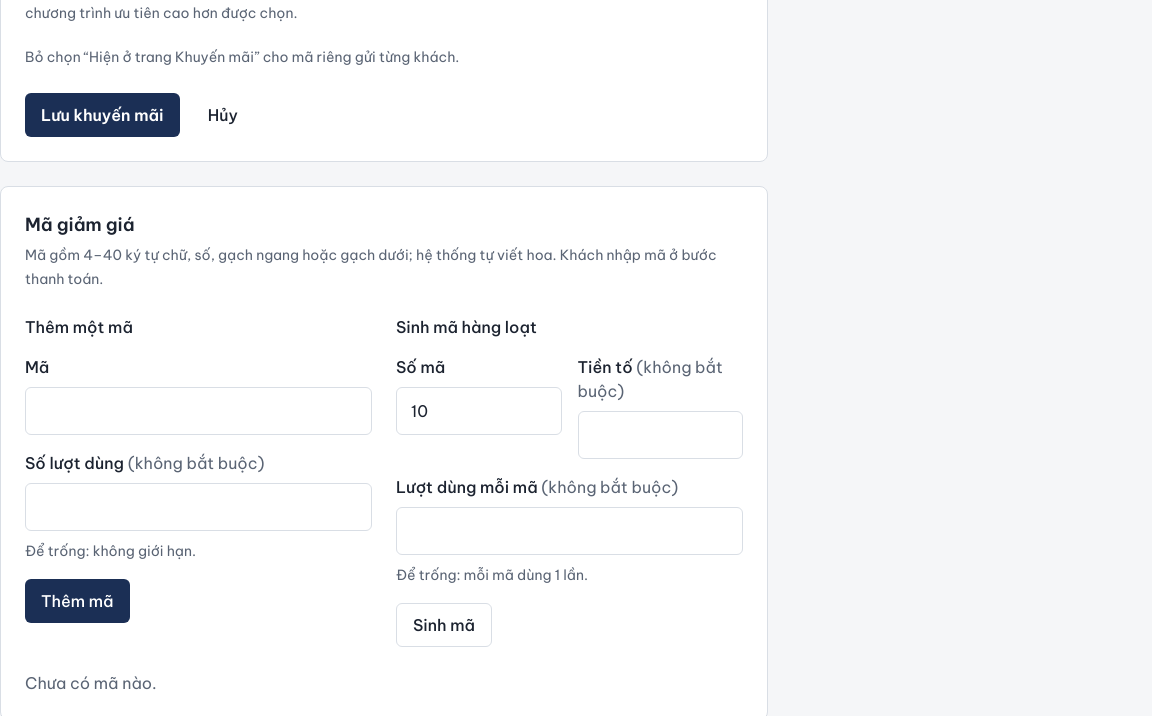
Test: PromotionEdit › báo mã trùng của backend ngay trong form thêm mã
(page scrolled)
In the field labelled "Mã": (198, 411) [25,387,372,435], type "TRUNG"
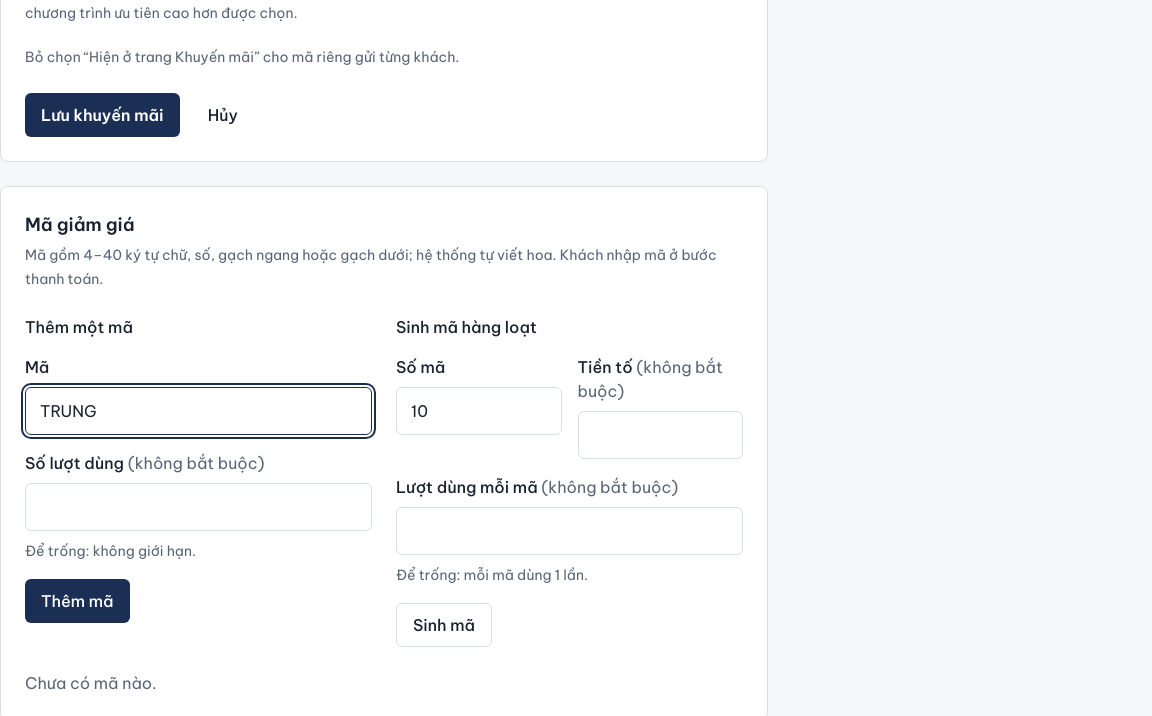
Click the button "Thêm mã": click(77, 601) [25,579,130,623]
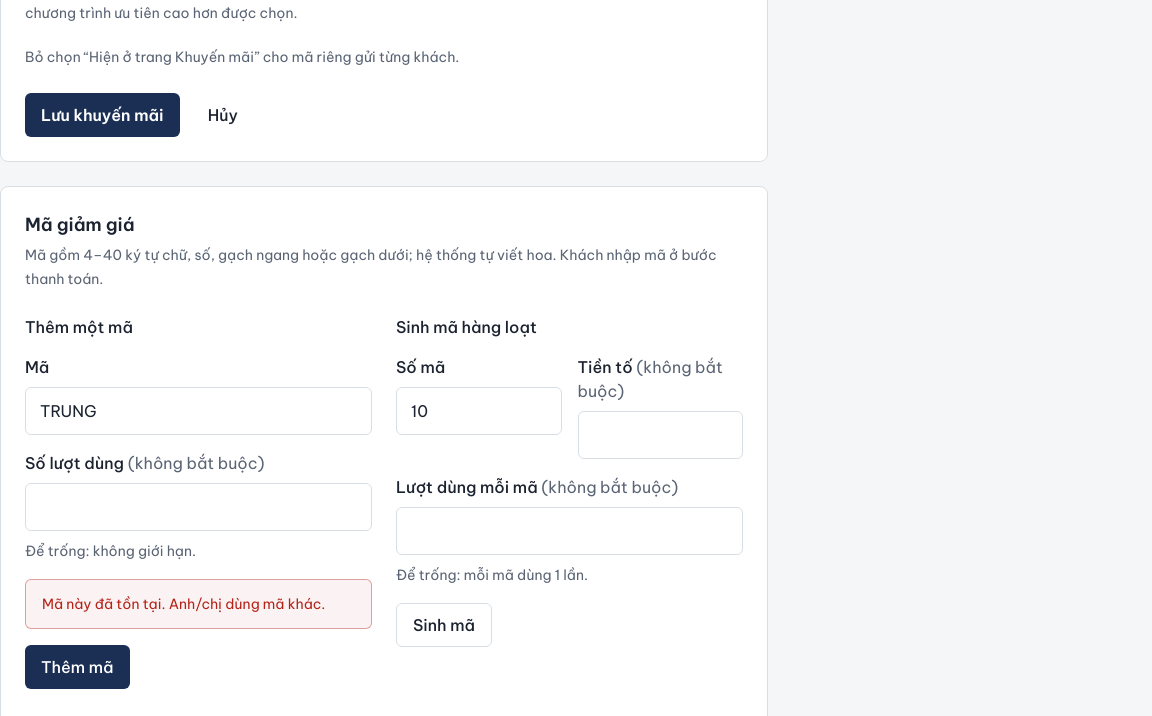
Expected: the text "Mã này đã tồn tại. Anh/chị dùng mã khác." is shown, [25,579,372,629]
